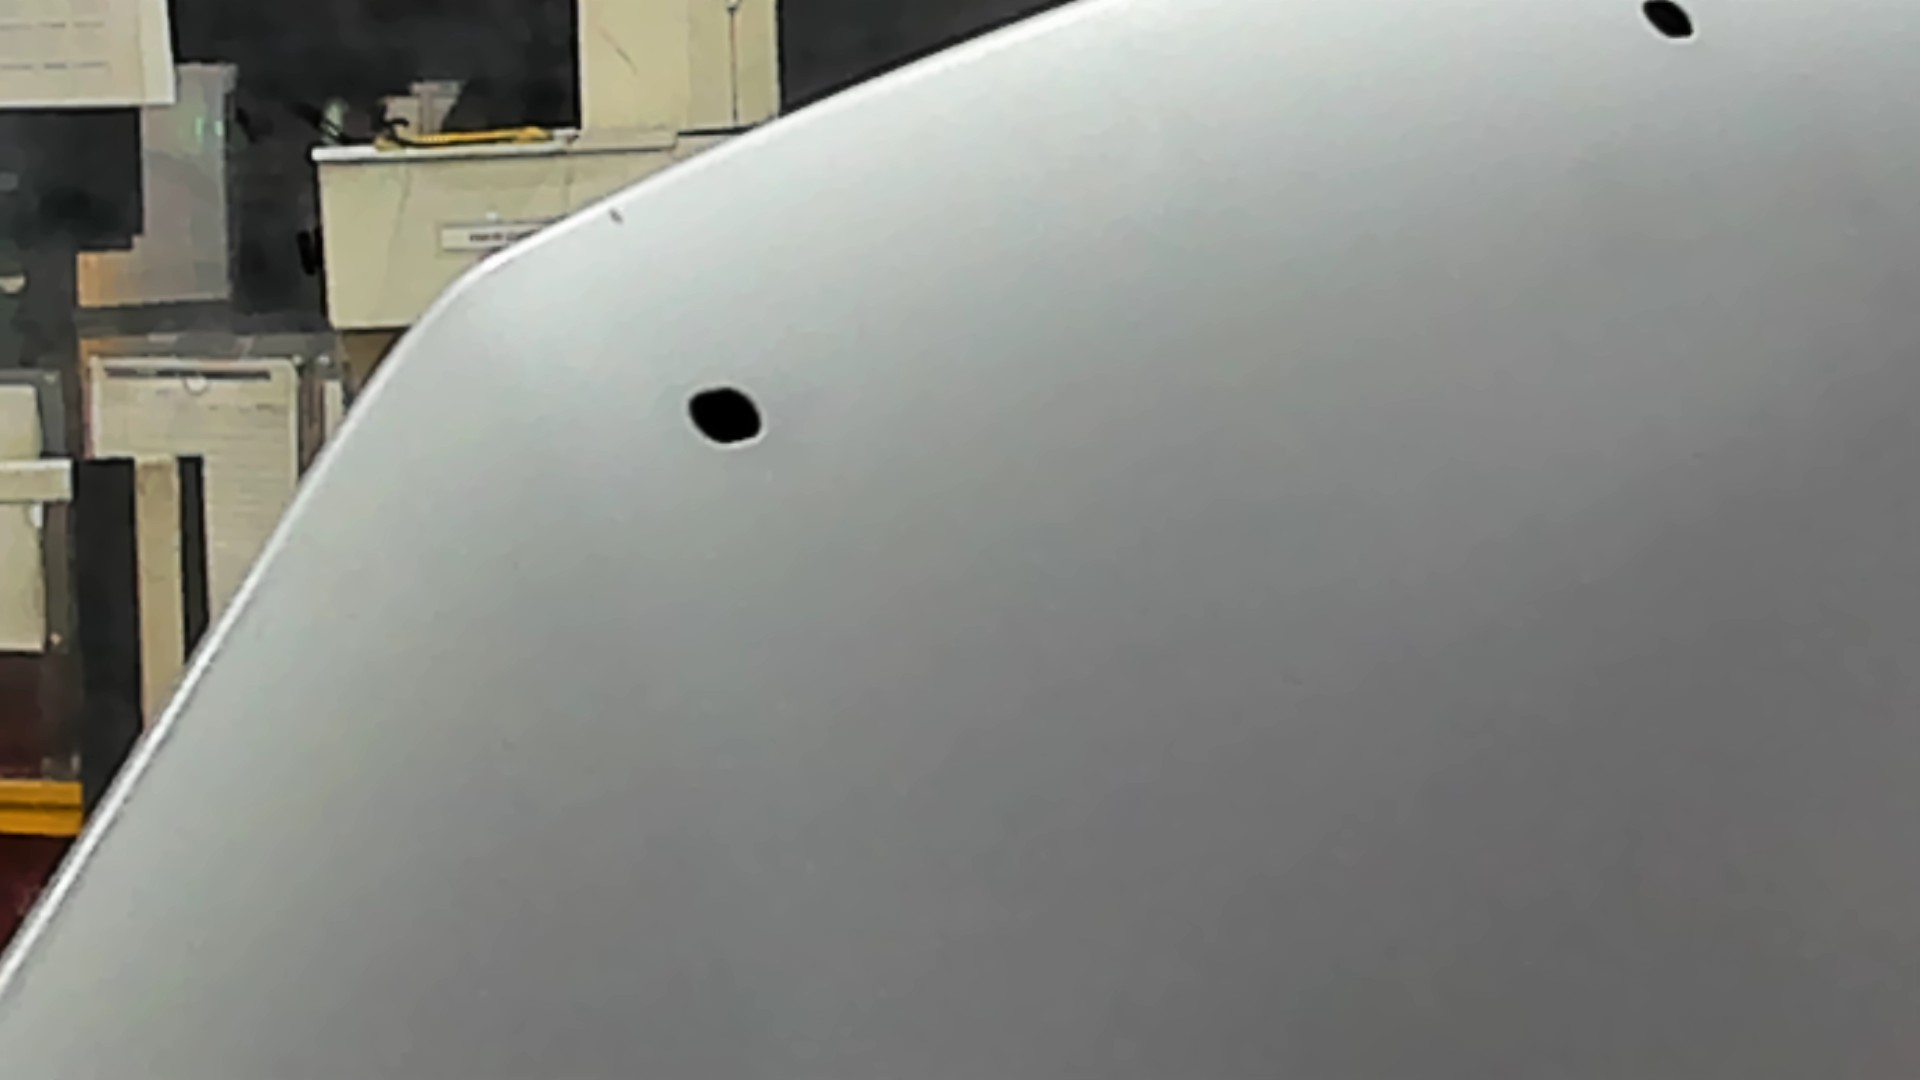Agujero: (684, 384, 767, 448), (1633, 1, 1698, 41)
